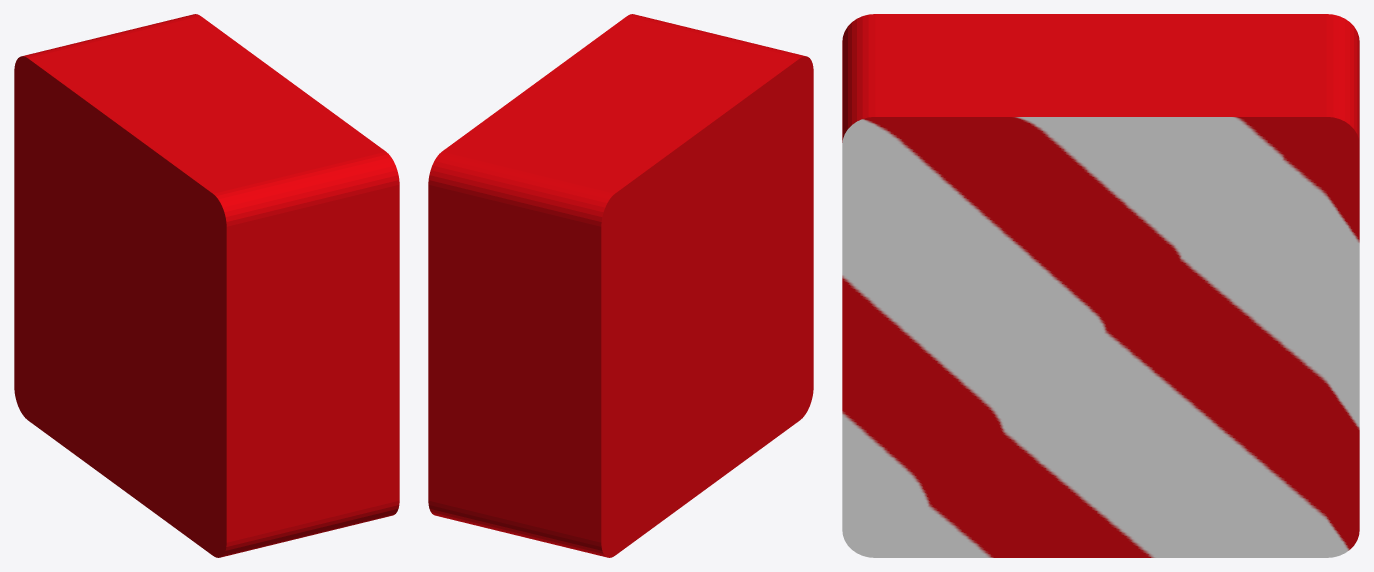
Rendered from Brick small.fbx.
The picture shows the model from 3 angles, left to right: view 1: azimuth 30°, elevation 25°; view 2: azimuth 150°, elevation 25°; view 3: azimuth 270°, elevation 25°; orthographic projection. The views are drawn at different scales.
Parts seen in each view (by area): view 1: Cube; view 2: Cube; view 3: Cube.
Boxes of the visible parts, bbox=[...] form: Cube: bbox=[14, 14, 399, 557]; Cube: bbox=[428, 14, 813, 557]; Cube: bbox=[842, 14, 1359, 557].
Size of the model in its own units: 268 by 536 by 569.
Materials: 2 (1 with a texture image).
